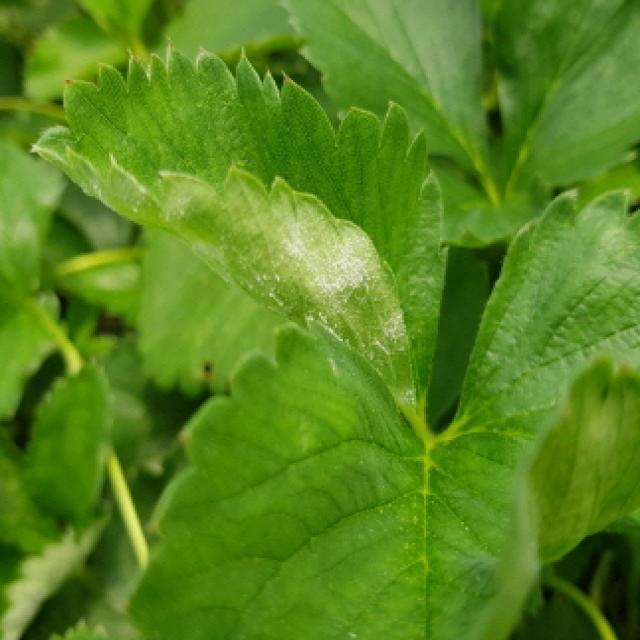Powdery Mildew Leaf: (25, 41, 448, 435)
